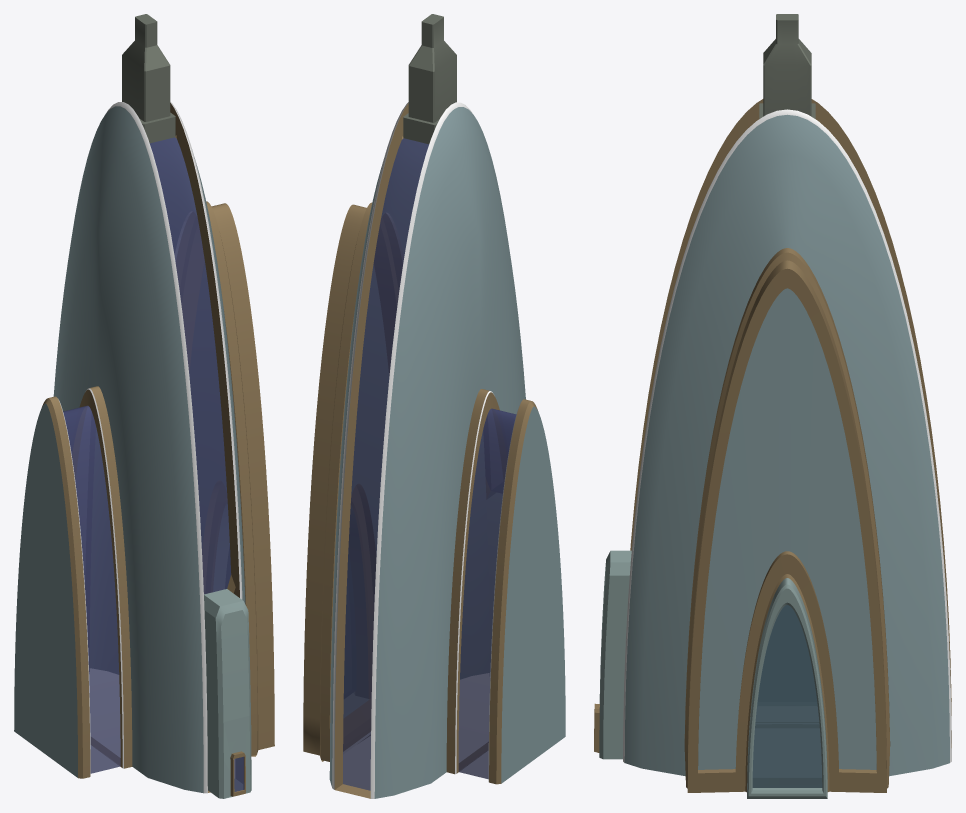
Rendered from MOD_MediumBuilding_B.fbx.
3 views of the same model, side by side, from view 1: azimuth 30°, elevation 25°; view 2: azimuth 150°, elevation 25°; view 3: azimuth 270°, elevation 25° (orthographic). The views are drawn at different scales.
Visible parts, largest first — view 1: MOD_MediumBuilding_B; view 2: MOD_MediumBuilding_B; view 3: MOD_MediumBuilding_B.
Boxes of the visible parts, left/top/right/bottom form: MOD_MediumBuilding_B: left=14, top=14, right=274, bottom=798; MOD_MediumBuilding_B: left=303, top=14, right=565, bottom=798; MOD_MediumBuilding_B: left=594, top=14, right=951, bottom=798.
Bounding box in the file's own units: 6206 × 21538 × 9412.
